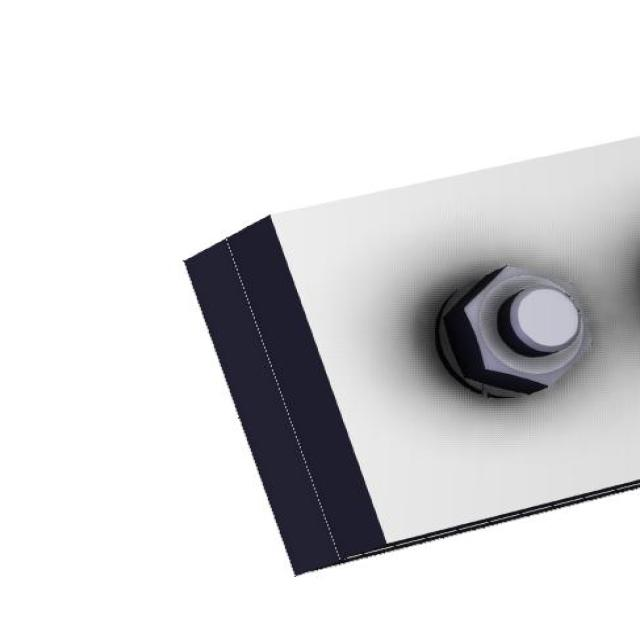bolt nut: (442, 265, 596, 393)
